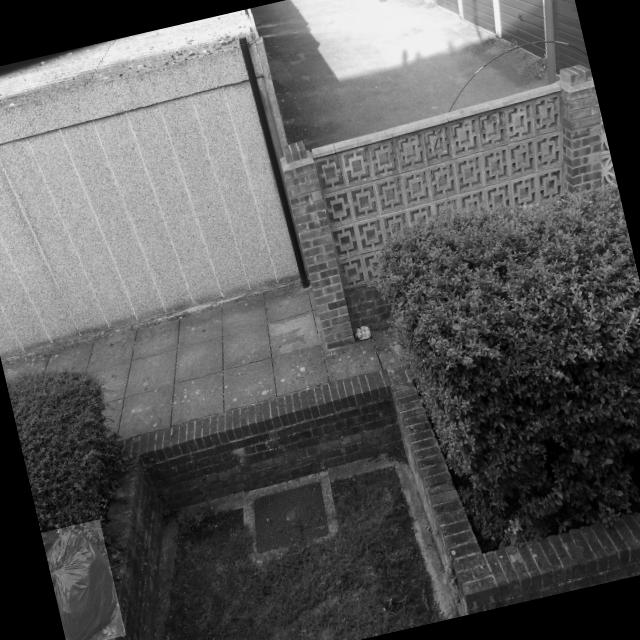Garbage bag: (44, 526, 116, 640)
Other Carton: (356, 326, 369, 339)
